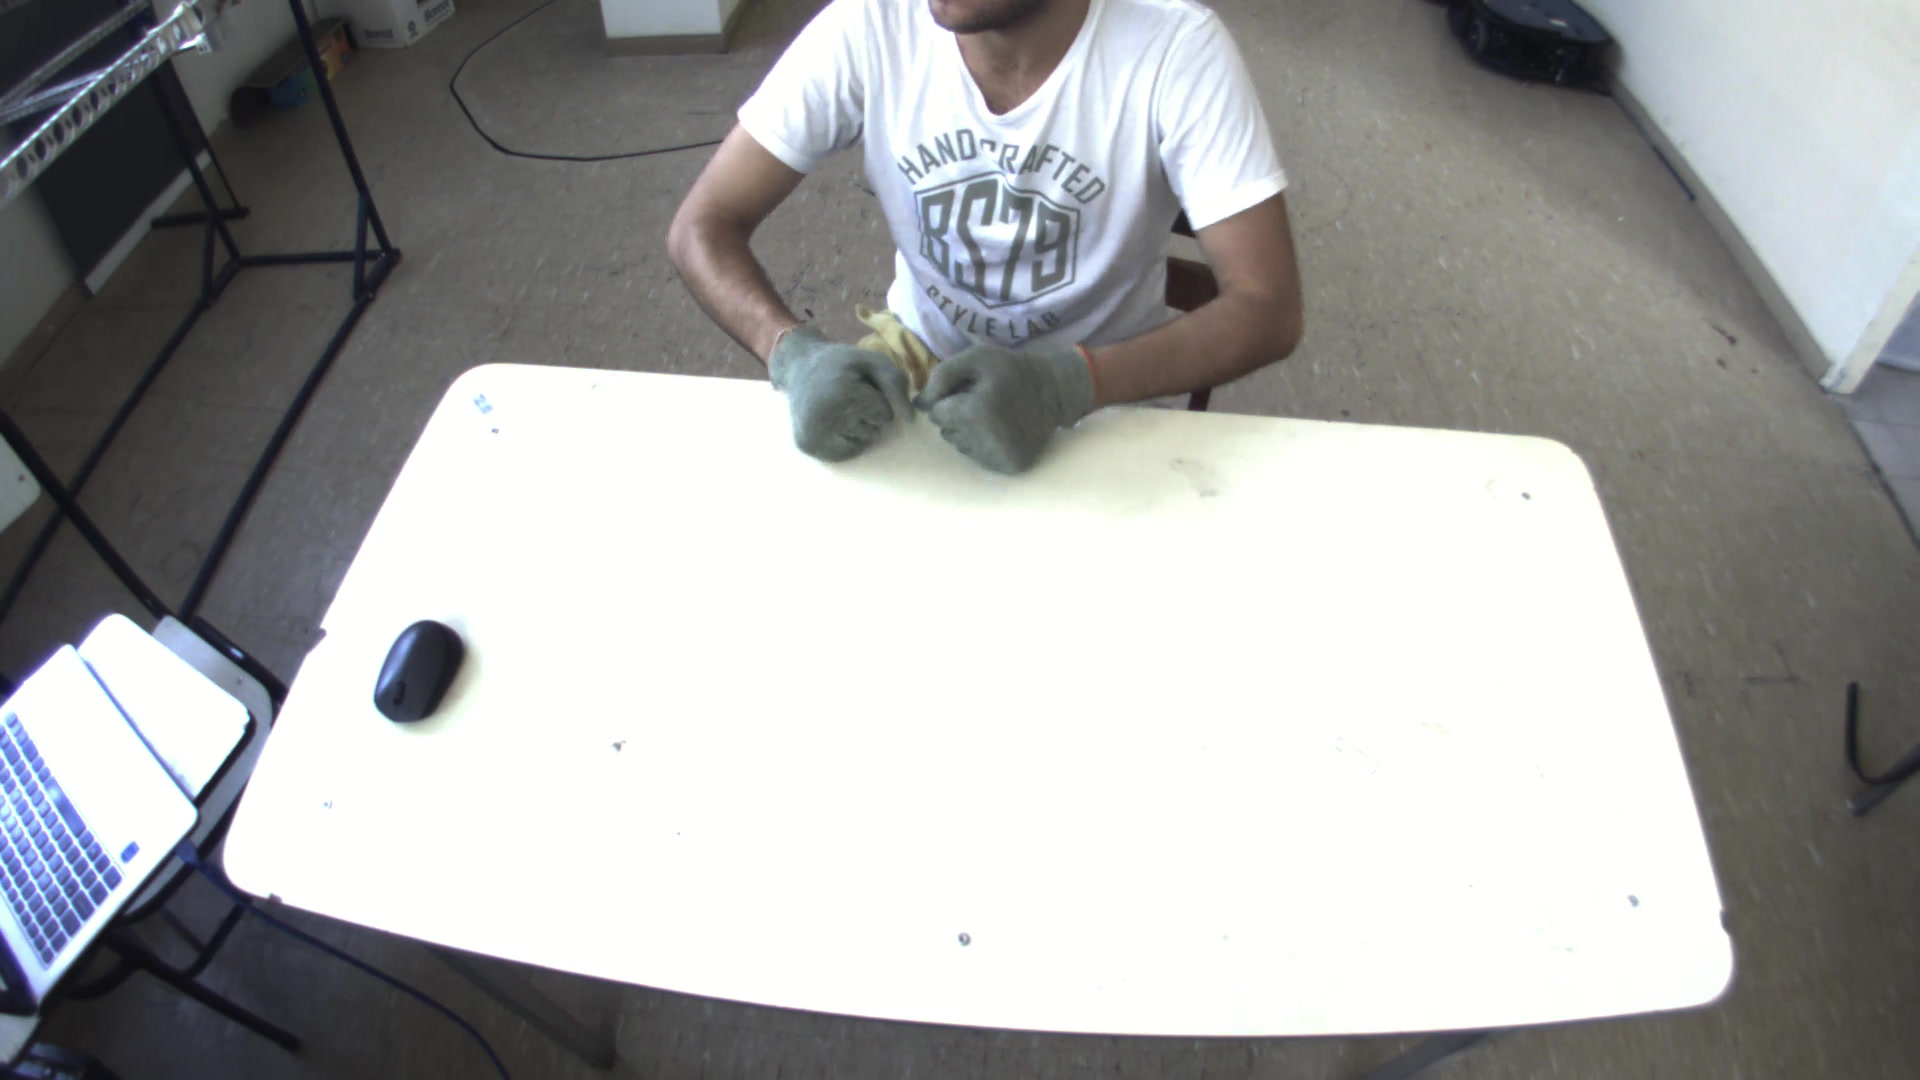hand: (914, 324, 1104, 469), (756, 310, 916, 468)
